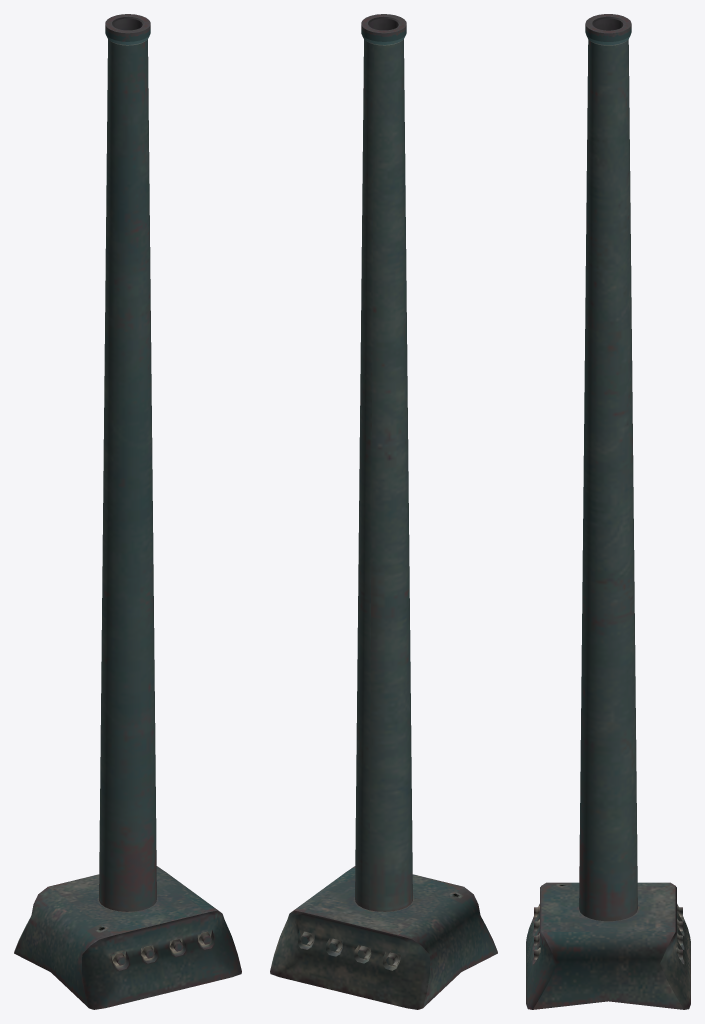
The model's file is Gun_07.glb.
The picture shows the model from 3 angles, left to right: view 1: azimuth 30°, elevation 25°; view 2: azimuth 150°, elevation 25°; view 3: azimuth 270°, elevation 25°; orthographic projection.
Parts seen in each view (by area): view 1: set_0_group_0; view 2: set_0_group_0; view 3: set_0_group_0.
Part boxes in pixels (x1=…): set_0_group_0: x1=14, y1=14, x2=241, y2=1009; set_0_group_0: x1=270, y1=14, x2=497, y2=1009; set_0_group_0: x1=526, y1=14, x2=690, y2=1009.
Bounding box in the file's own units: 0.6379 × 3.7 × 0.5822.
Materials: 1 (1 with a texture image).
